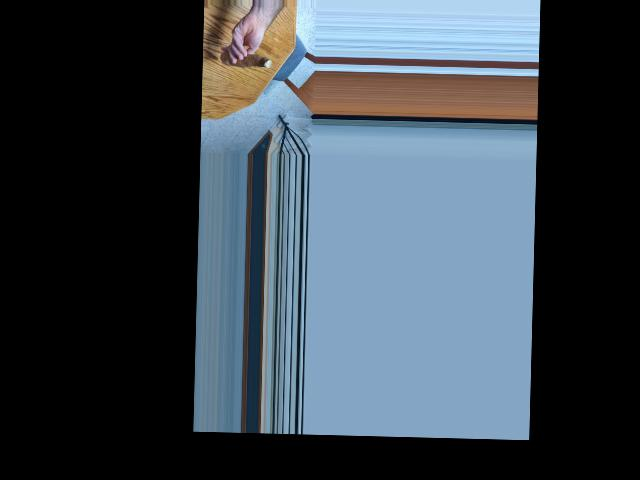sweet_potato: (228, 55, 273, 67)
